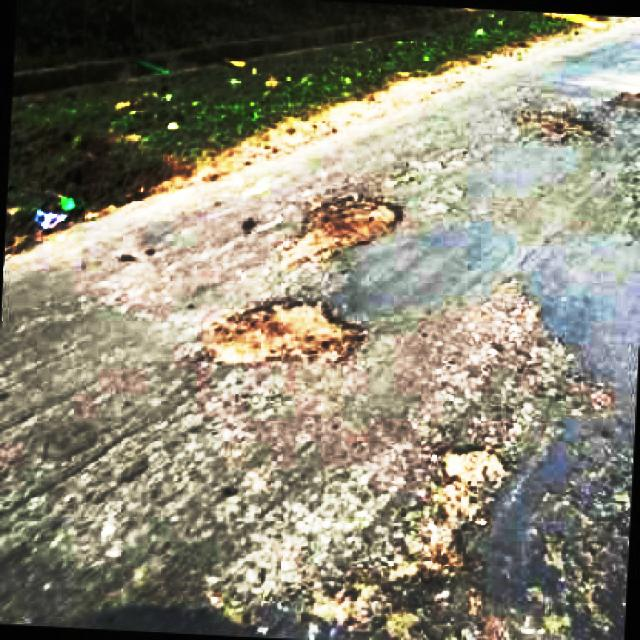pothole: (375, 440, 531, 588), (200, 289, 362, 371), (286, 191, 411, 266), (508, 104, 600, 148)
